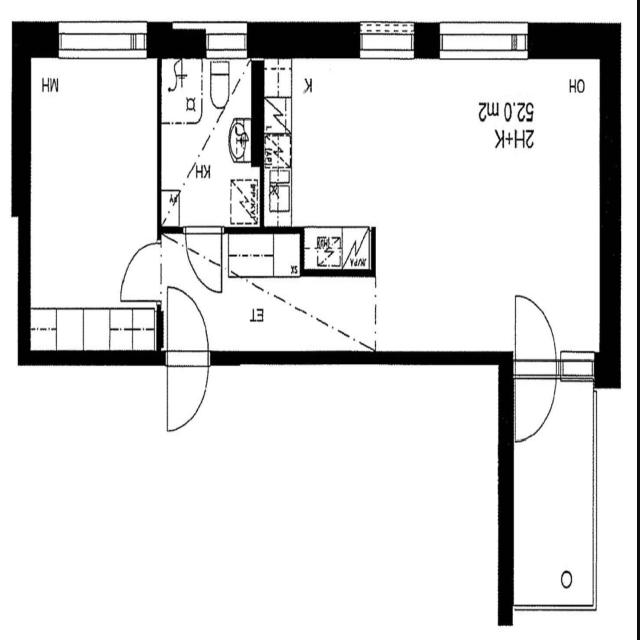door: (508, 287, 562, 445), (162, 284, 213, 439), (114, 232, 166, 313), (186, 223, 224, 293)
window: (49, 18, 152, 69), (434, 17, 532, 68), (351, 18, 421, 68), (558, 341, 600, 392), (203, 30, 250, 55)
zone: (294, 50, 580, 322), (23, 50, 161, 355), (510, 369, 600, 621), (158, 52, 258, 230)
